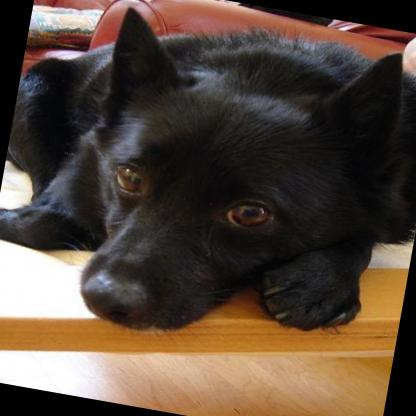schipperke: (0, 0, 416, 377)
